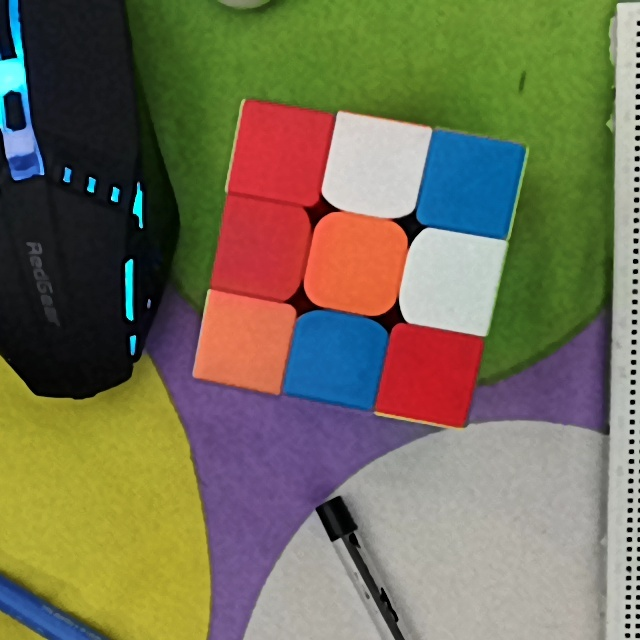tile: (320, 224, 395, 302), (335, 128, 411, 204), (242, 114, 317, 190), (431, 147, 508, 221), (223, 213, 298, 286), (394, 338, 465, 415), (415, 246, 491, 317), (207, 308, 281, 375), (299, 330, 373, 391)
